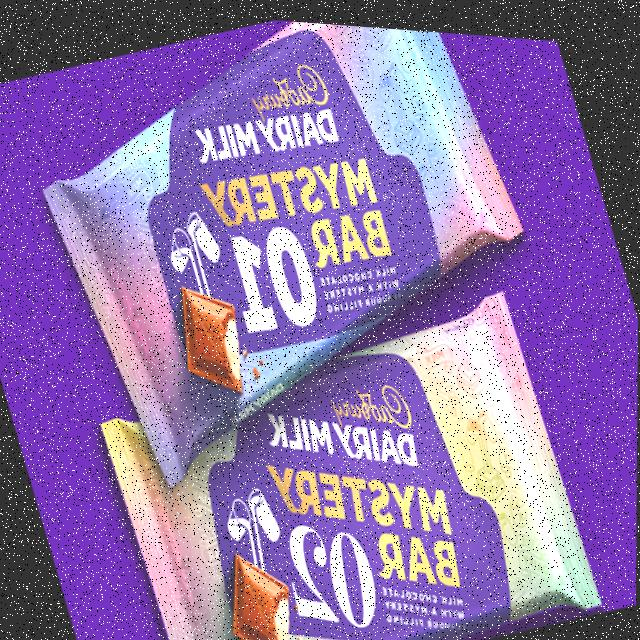cadbury: (11, 1, 564, 511), (89, 255, 609, 640)
